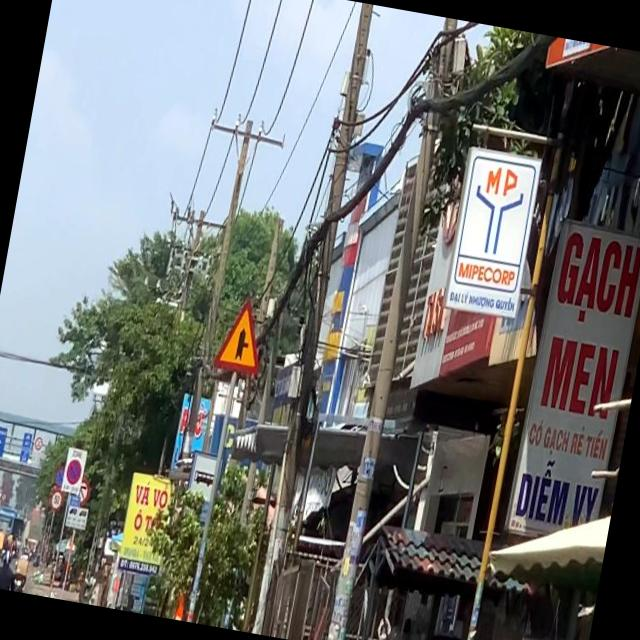W-207b: (214, 294, 270, 374)
